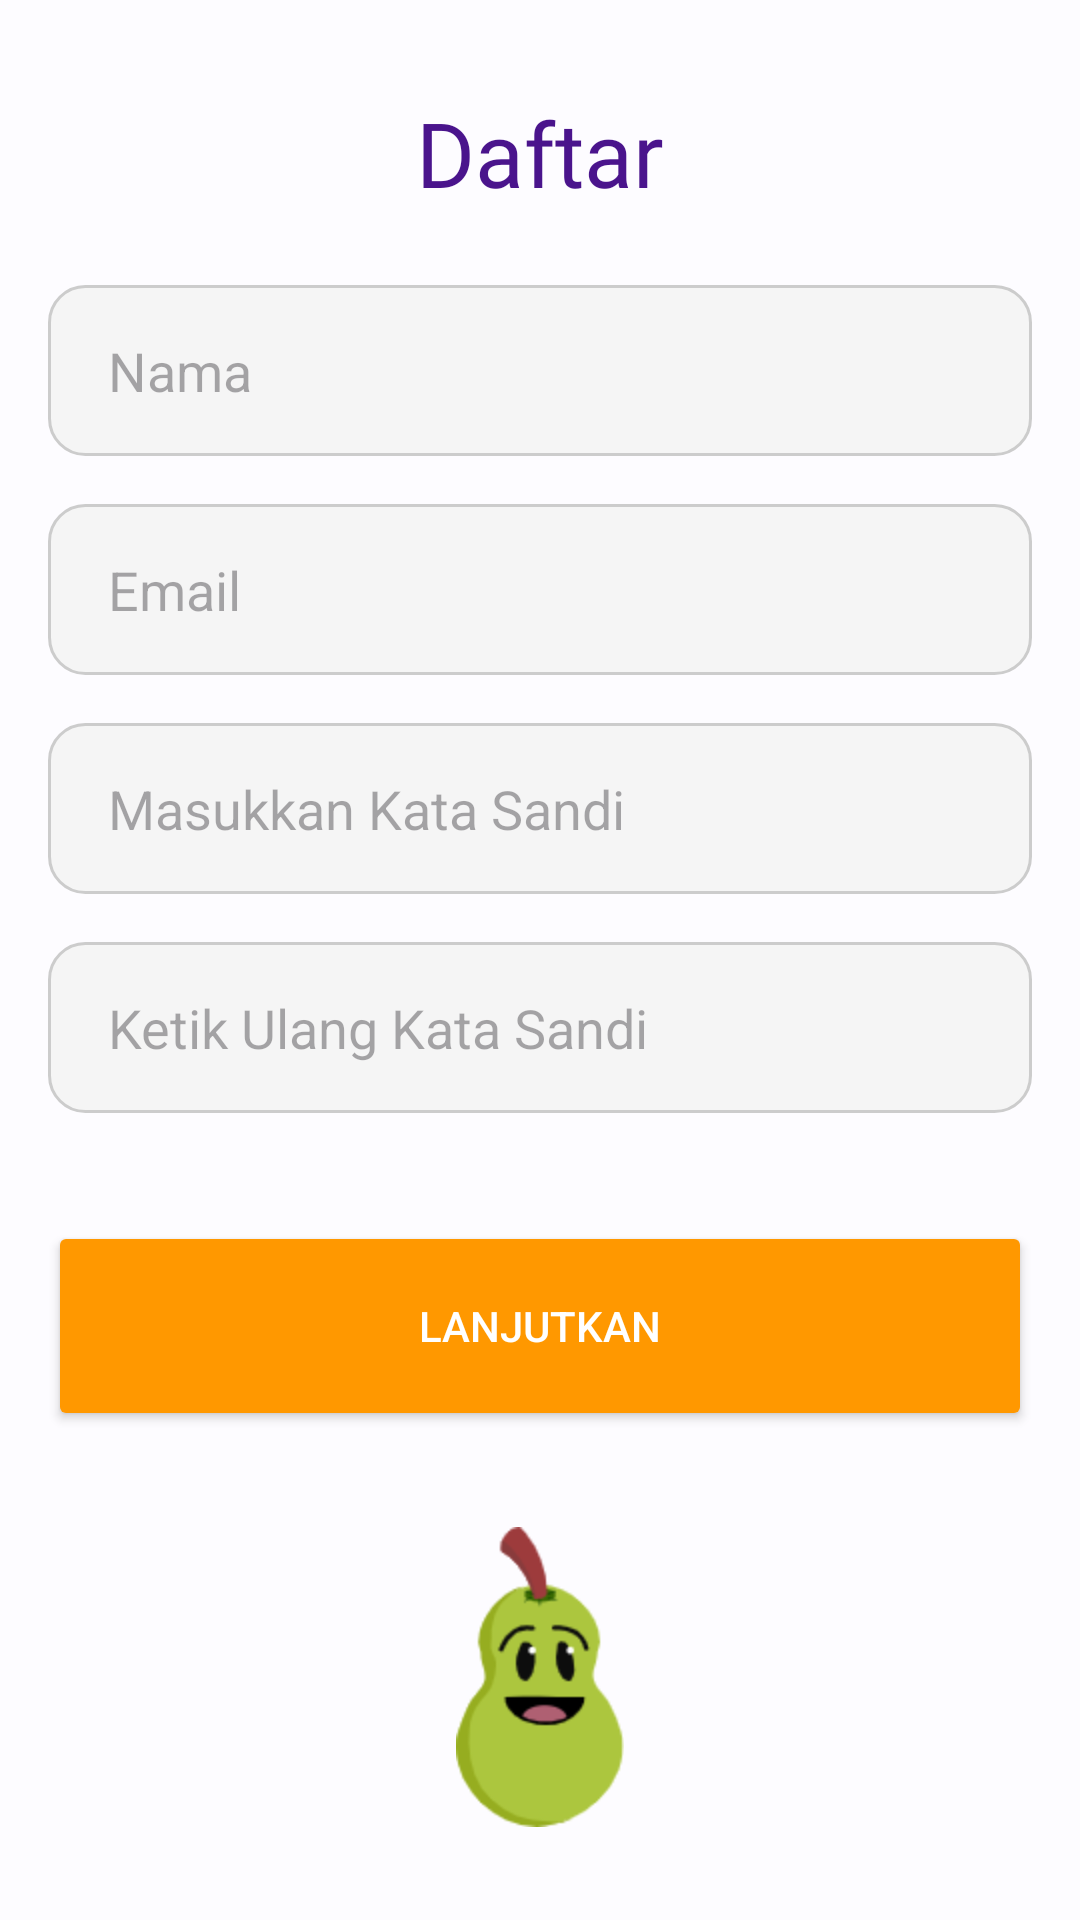

Named icons in this screenshot (1080px×1920px) and their bounding boxes, (x1, y1, x2, y2):
Ikon Pir: (456, 1527, 624, 1827)
